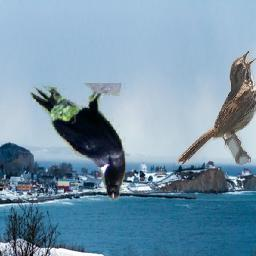Crow: (29, 84, 127, 201)
Sparrow: (176, 49, 256, 166)
